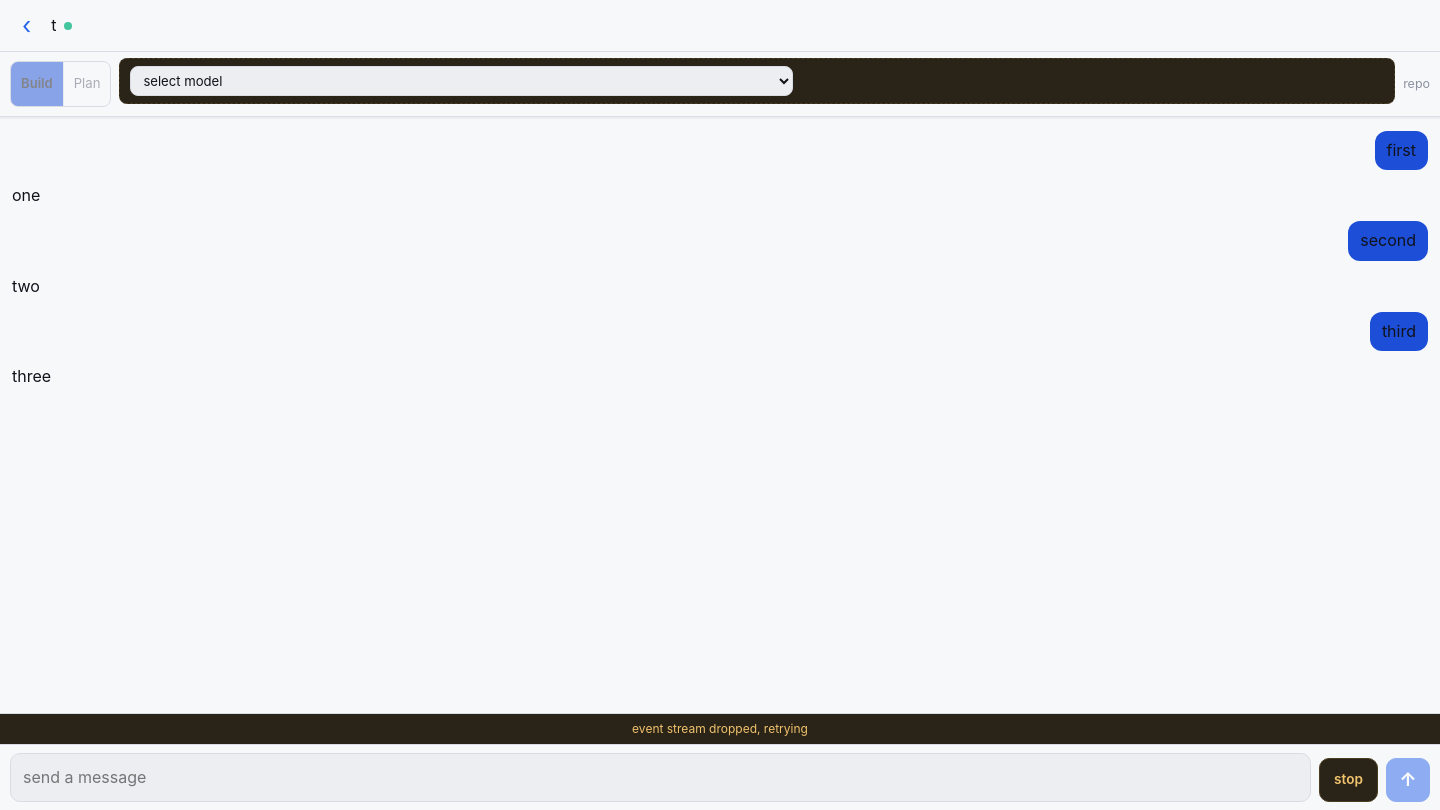
Test: long-press actions › refuses to undo while a turn is running
Press the mouse on the button named "Send" at [1408, 780], box [1386,758,1430,802]
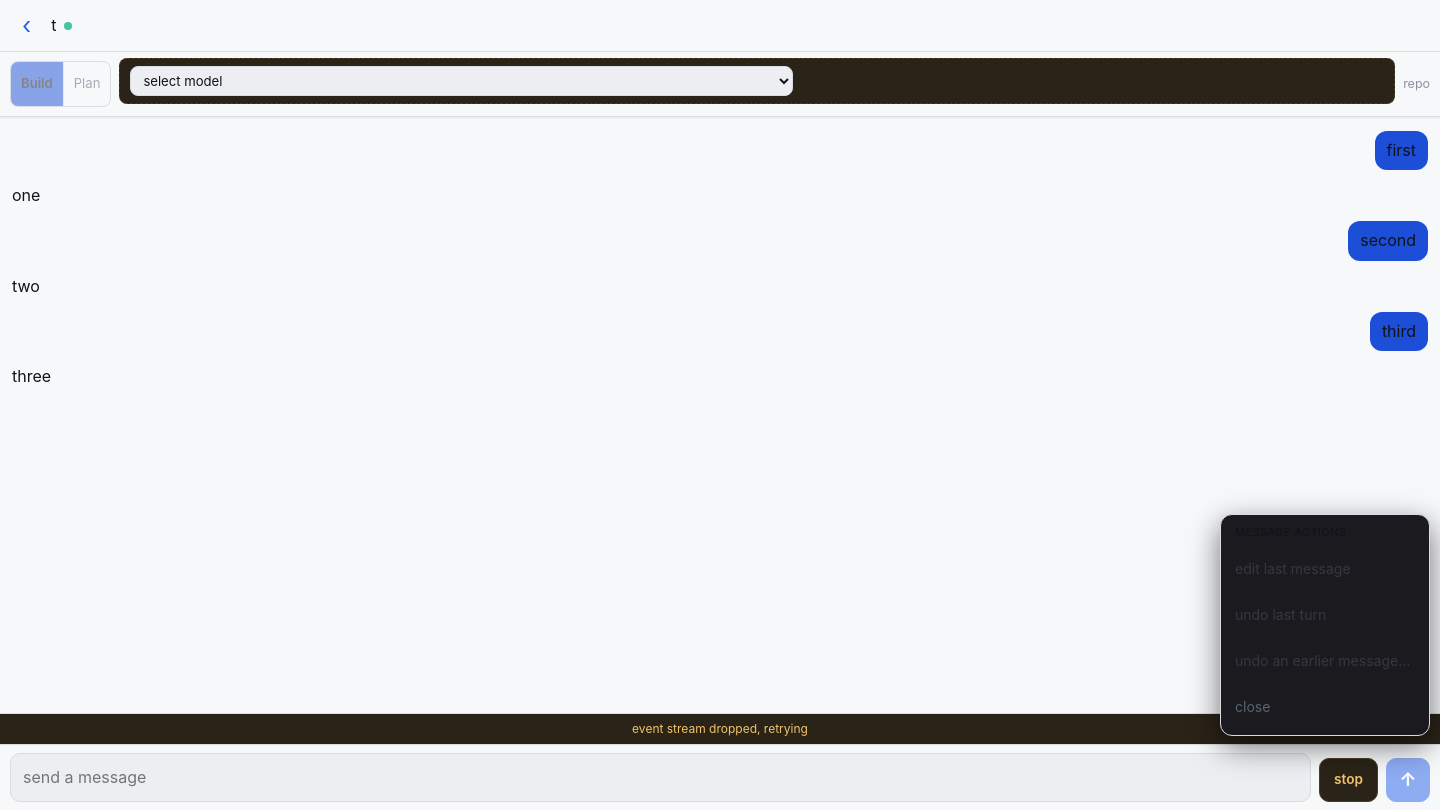
Expected: the menu item "undo last turn" is disabled, [1227,593,1423,637]
